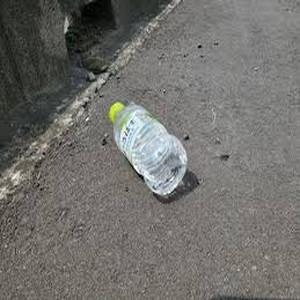Plastic: (105, 101, 190, 196)
